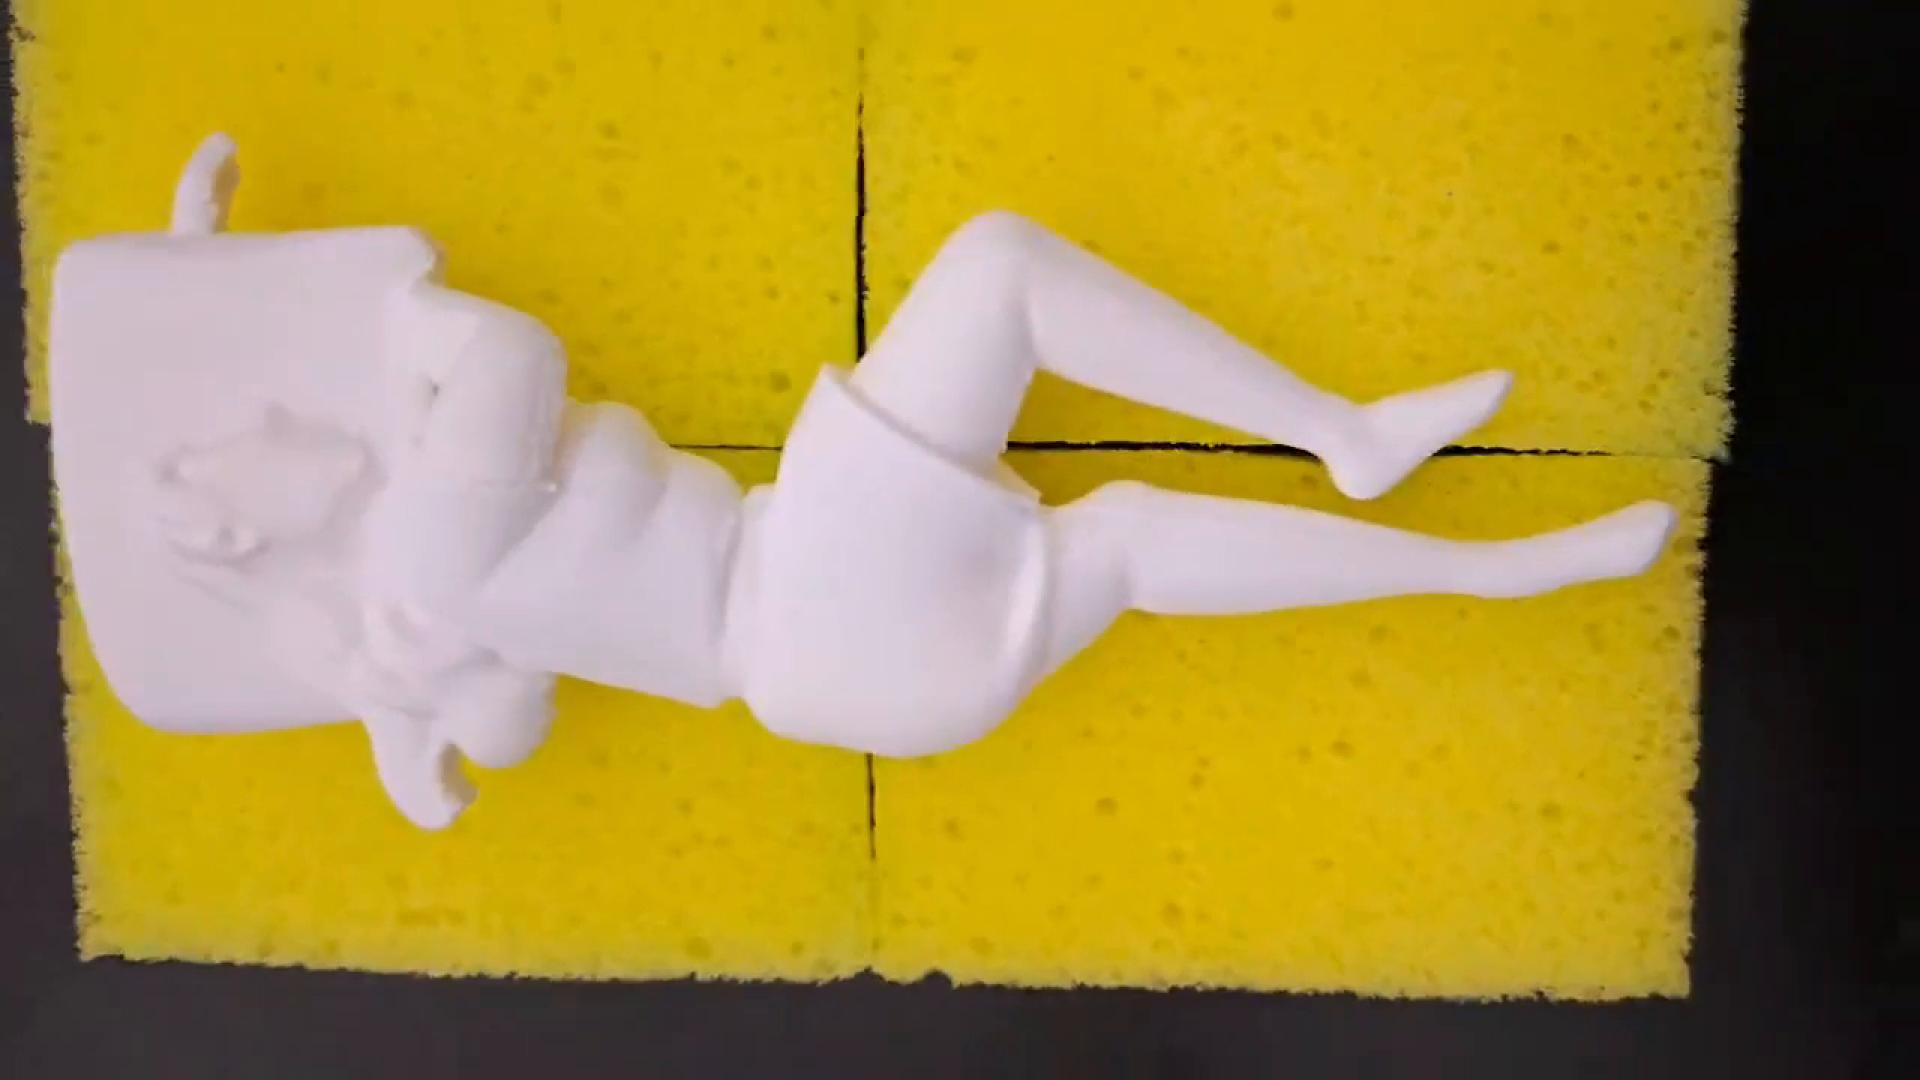Good-style: (54, 129, 1671, 824)
